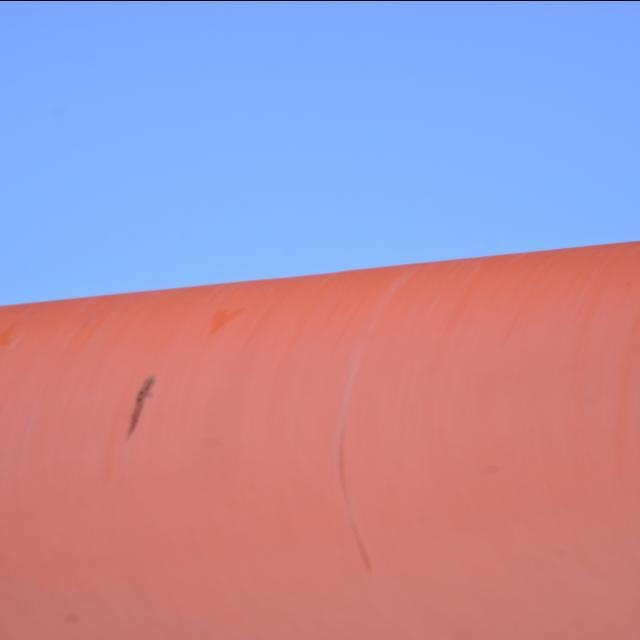Coating_defects: (128, 374, 158, 434)
